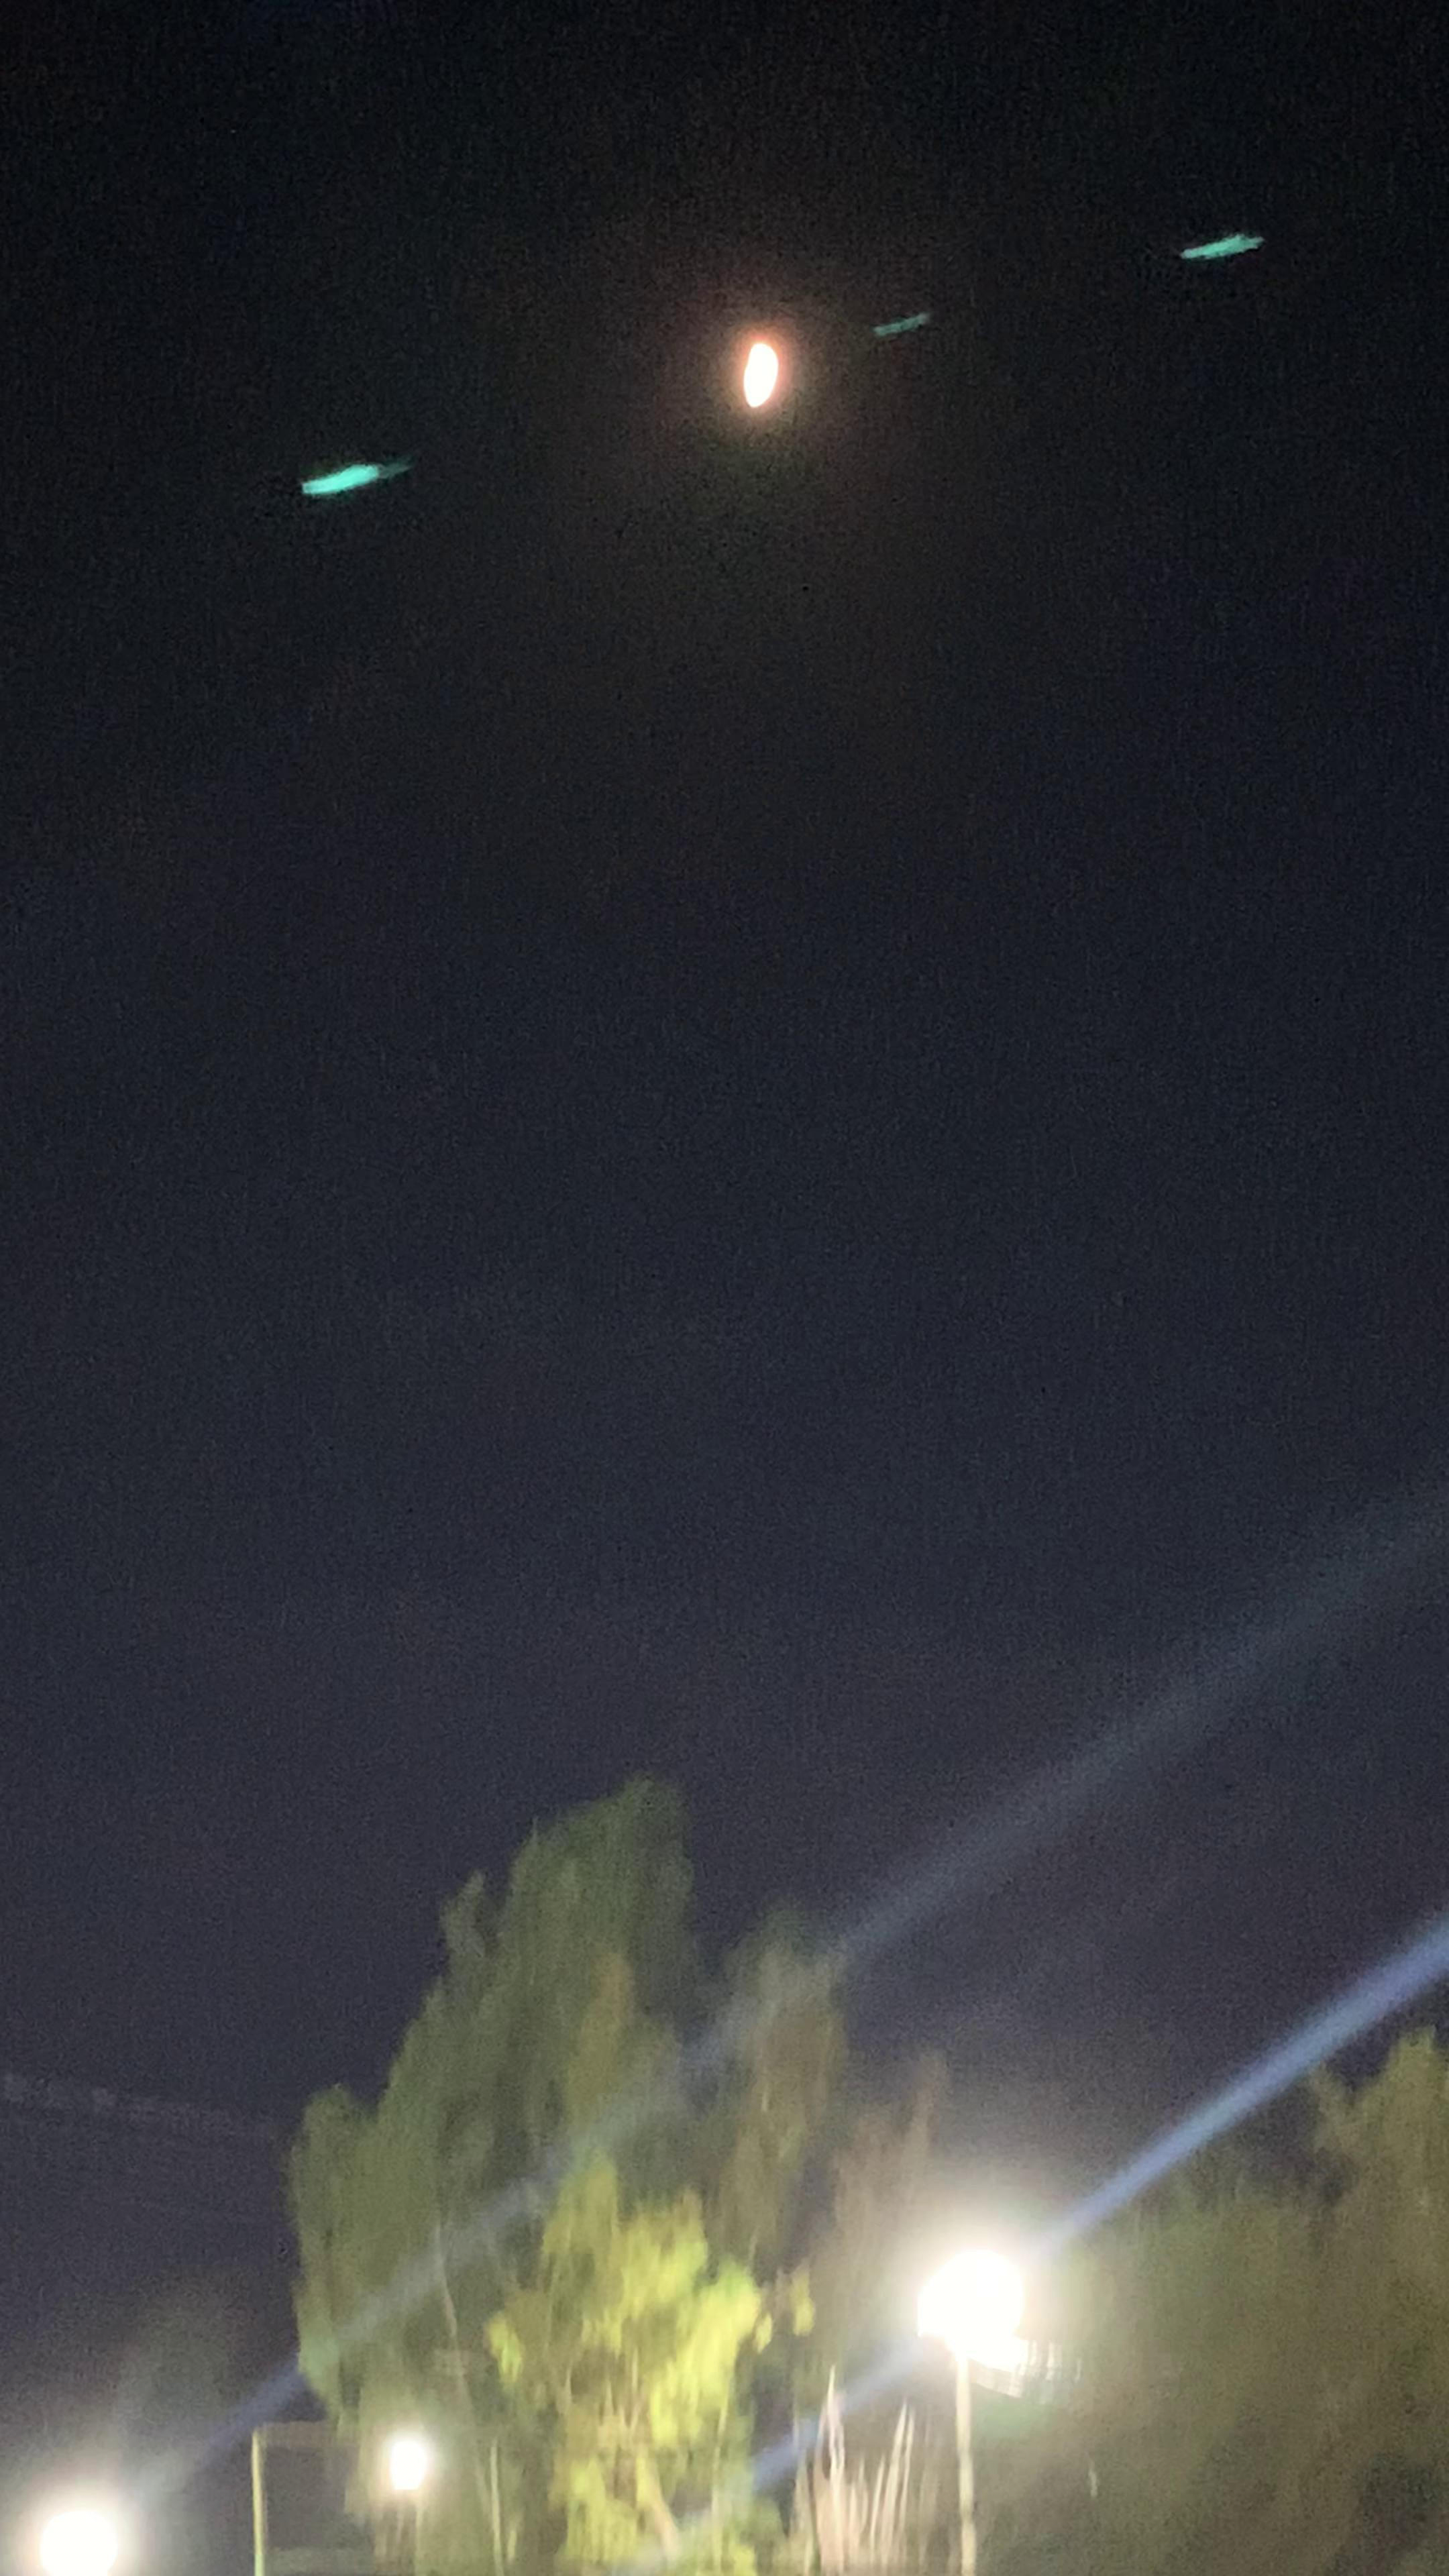moon: (685, 303, 846, 448)
